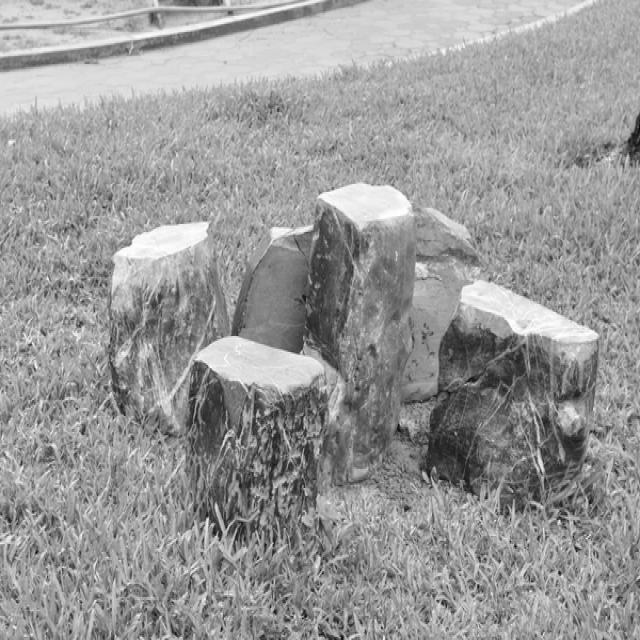Stone: (428, 283, 600, 510), (304, 184, 417, 486), (186, 336, 328, 532), (109, 222, 228, 436), (401, 210, 485, 400), (232, 226, 314, 353)
